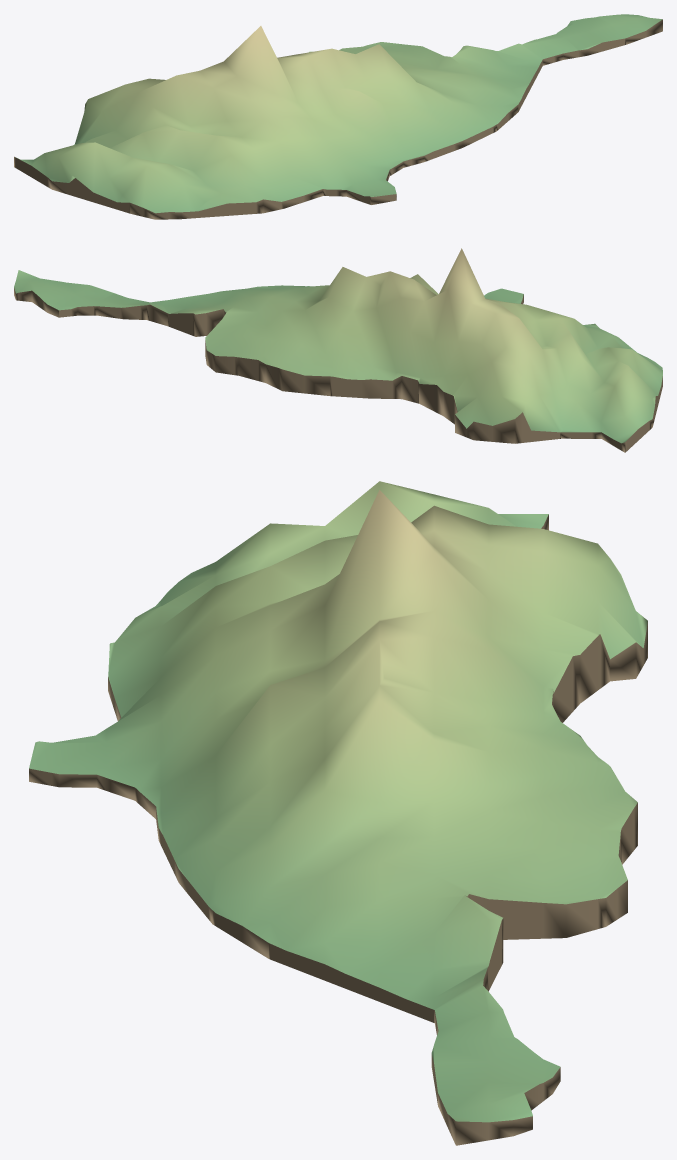
File: CYP.glb
3 views of the same model, one above another, from view 1: azimuth 30°, elevation 25°; view 2: azimuth 150°, elevation 25°; view 3: azimuth 270°, elevation 25° (orthographic). The views are drawn at different scales.
Visible parts, largest first — view 1: CYP; view 2: CYP; view 3: CYP.
Part boxes in pixels (x1,y1,x2,y2): CYP: [14, 14, 662, 219]; CYP: [14, 248, 662, 452]; CYP: [29, 481, 647, 1145].
Bounding box in the file's own units: 1.8 × 0.338 × 0.7732.
